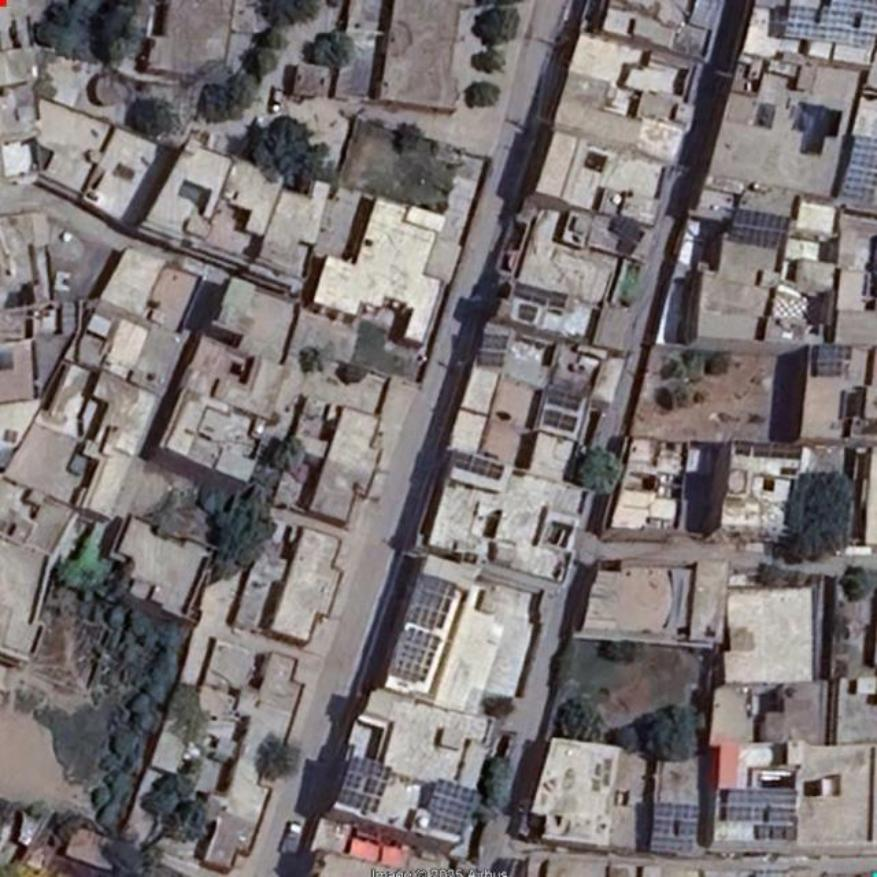Solarpanel: (388, 571, 457, 683), (784, 0, 876, 49), (338, 754, 394, 814), (421, 779, 482, 834), (647, 803, 703, 853), (730, 209, 790, 247), (724, 790, 797, 821), (842, 136, 876, 202), (514, 281, 566, 310), (453, 451, 501, 479), (814, 341, 843, 376), (476, 335, 505, 365), (543, 409, 578, 431)
